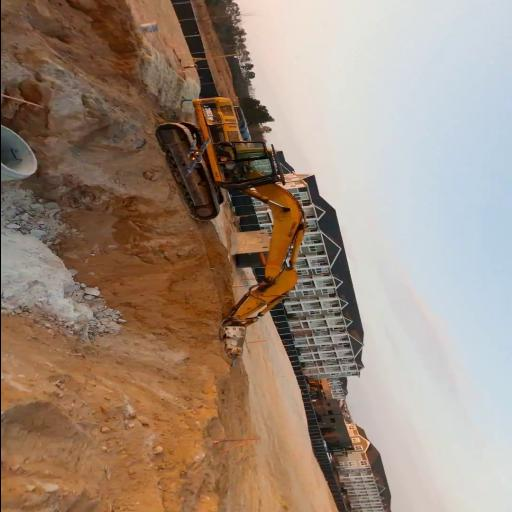uav: (184, 136, 210, 178)
